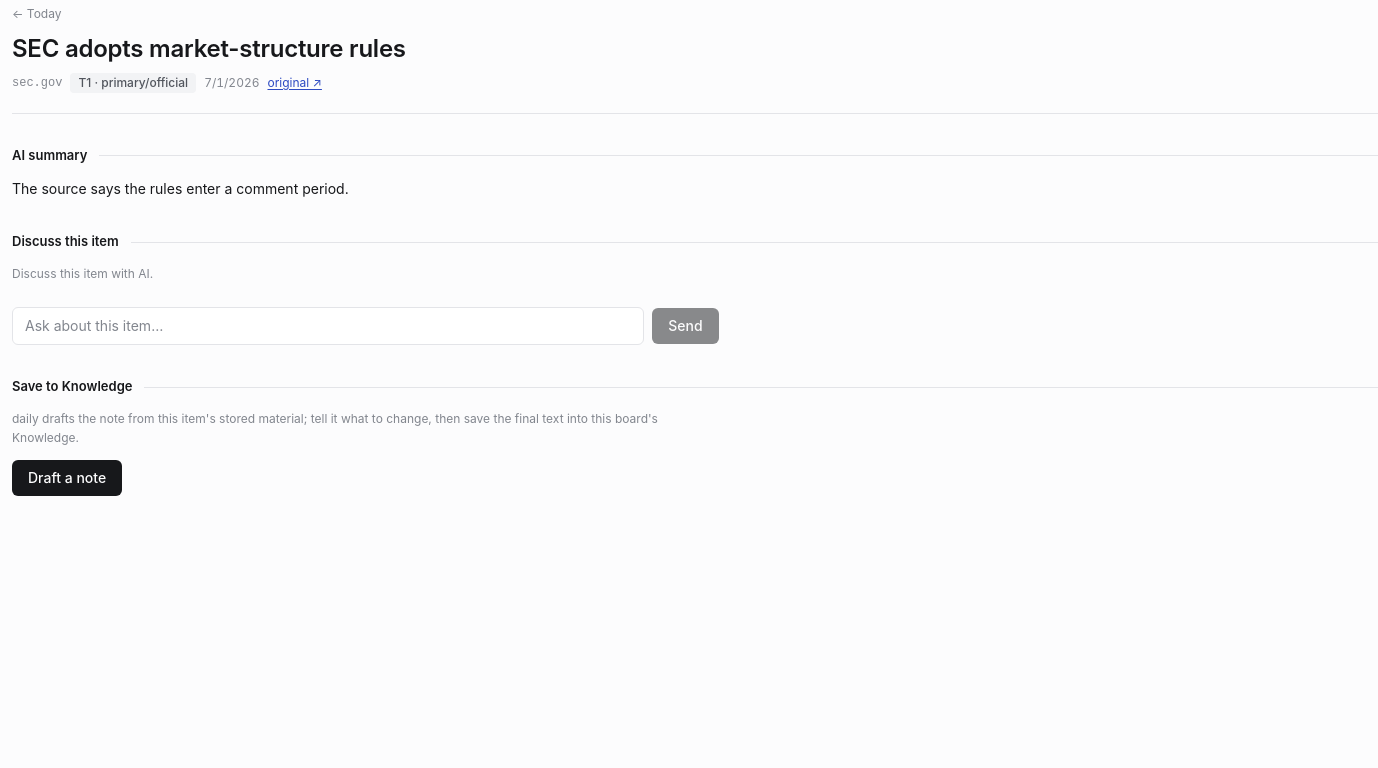
Test: ItemDiscussPanel (M16.5) › sends a question and renders the source-bounded reply — zero check language
Expected: the text "Discuss this item with AI." is shown, [12,266,153,281]
In the field named "Your question about this item": (328, 326) [12,307,644,345], type "评议期多久?"
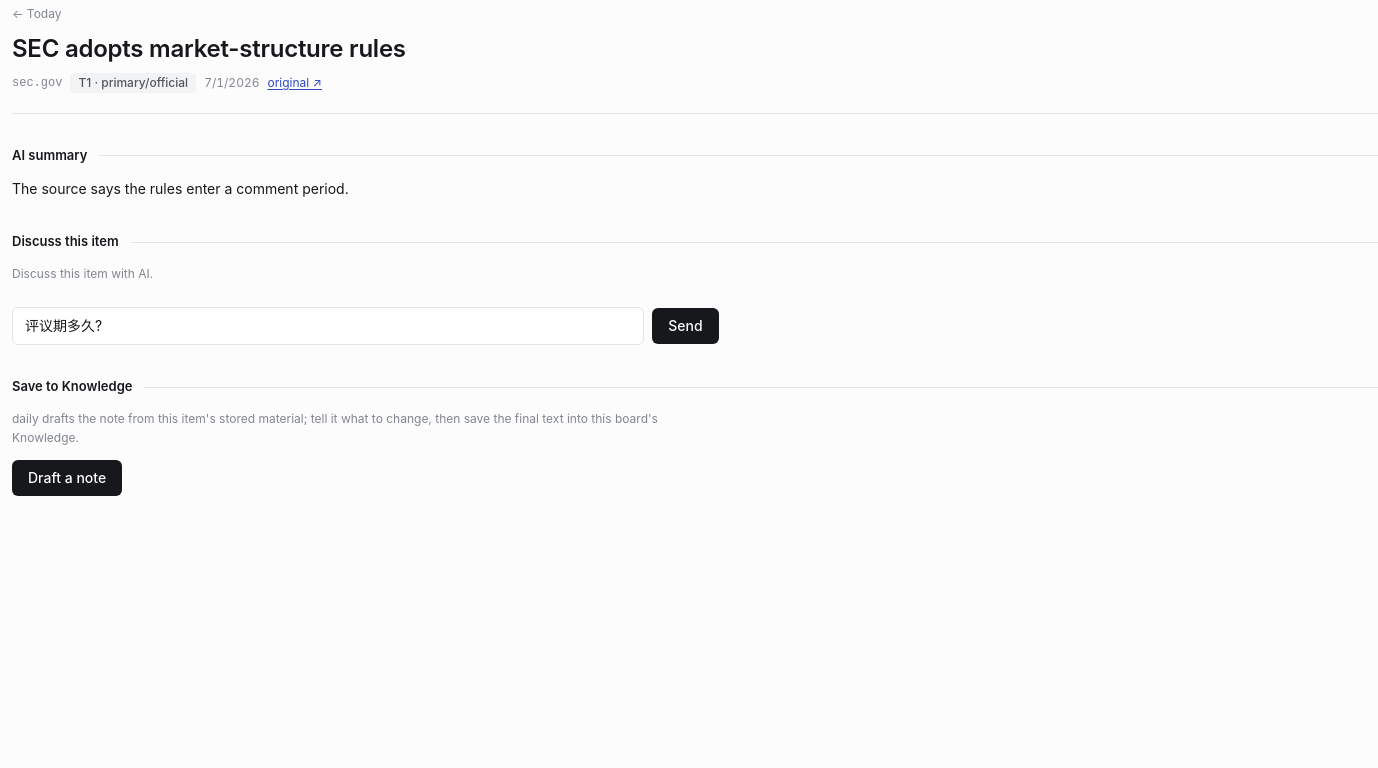
Click the button "Send": click(685, 326) [652,308,718,344]
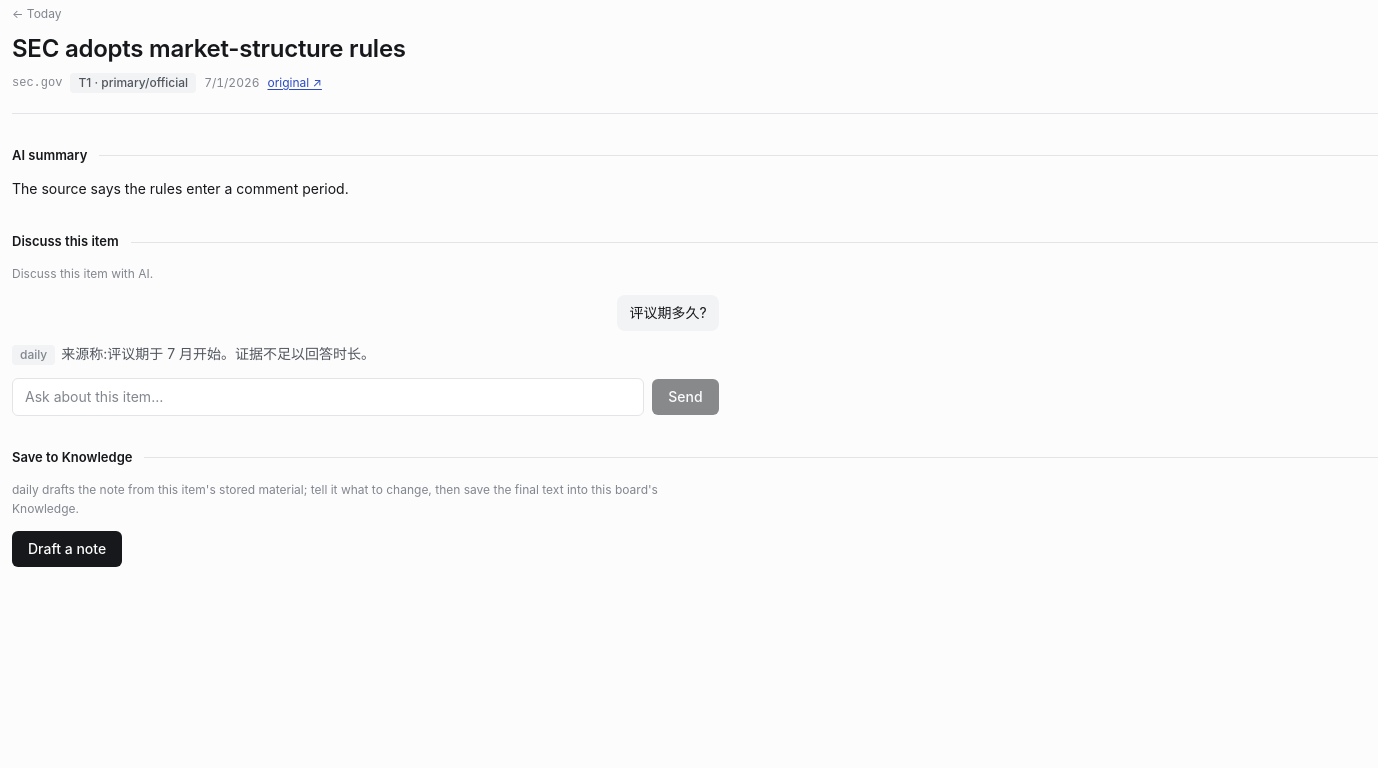
Result: the text "评议期多久?" is shown at [617,295,719,331]
Result: the text "daily 来源称:评议期于 7 月开始。证据不足以回答时长。" is shown at [12,345,375,365]
